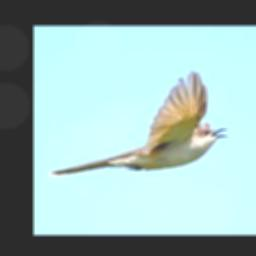Cuckoo: (50, 70, 227, 176)
